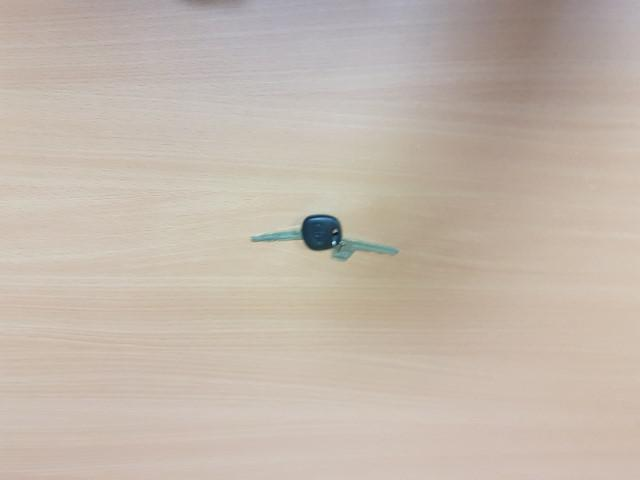key: (252, 214, 343, 250)
